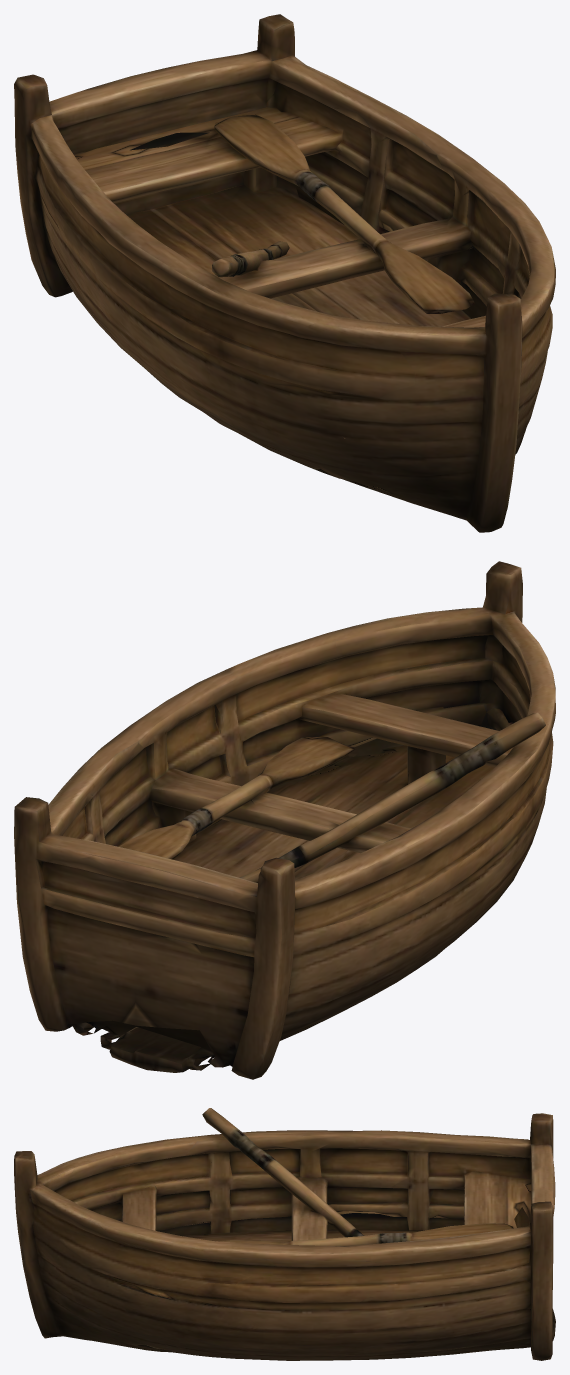
Rendered from rowboat.glb.
The picture shows the model from 3 angles, top to bottom: view 1: azimuth 30°, elevation 25°; view 2: azimuth 150°, elevation 25°; view 3: azimuth 270°, elevation 25°; orthographic projection. The views are drawn at different scales.
Visible parts, largest first — view 1: geometry_0; view 2: geometry_0; view 3: geometry_0.
Part boxes in pixels (x1,y1,x2,y2): geometry_0: (14,14,555,532); geometry_0: (14,561,555,1079); geometry_0: (14,1108,555,1360).
Size of the model in its own units: 0.5437 by 0.3797 by 1.
1 material, 1 textured.
